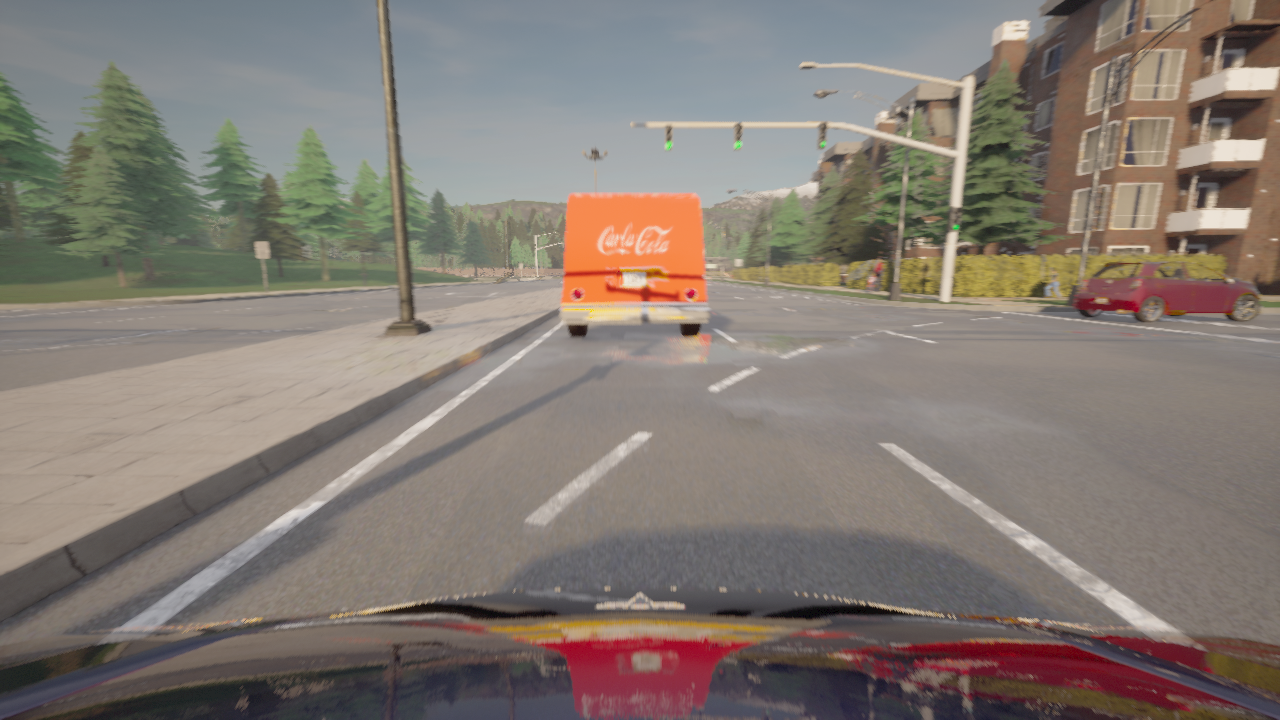cyclist: (0, 588, 1279, 719), (560, 194, 709, 337), (1074, 261, 1260, 323)
pedestrian: (1045, 269, 1060, 298), (872, 259, 882, 291), (359, 263, 367, 287), (866, 273, 874, 291)
